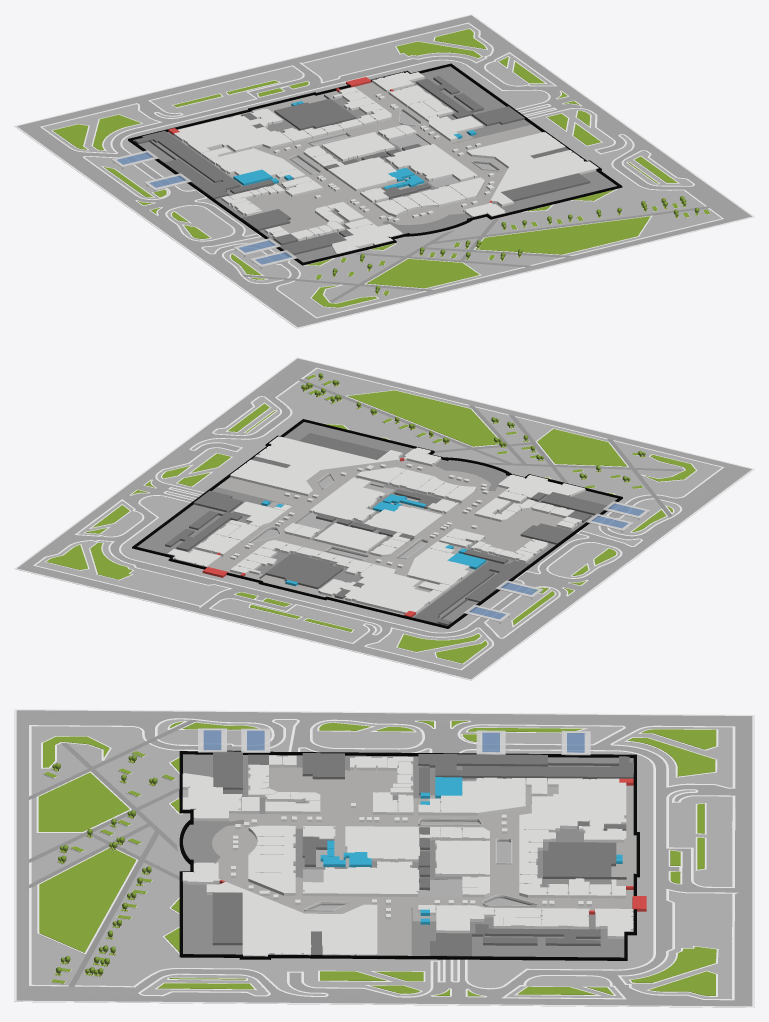
File: map_3.fbx
The picture shows the model from 3 angles, top to bottom: view 1: azimuth 30°, elevation 25°; view 2: azimuth 150°, elevation 25°; view 3: azimuth 270°, elevation 25°; orthographic projection. The views are drawn at different scales.
Parts seen in each view (by area): view 1: Curve.000_Curve.191, Curve.002_Curve.188, Curve.241_Curve.624, Curve.003_Curve.632, Curve.243_Curve.625, Curve.006_Curve.010, Curve.244_Curve.628, Curve.242_Curve.161, Curve.111_Curve.500, Curve.036_Curve.035, Curve.001_Curve.002, Curve.107_Curve.496 (+10 smaller); view 2: Curve.000_Curve.191, Curve.002_Curve.188, Curve.241_Curve.624, Curve.003_Curve.632, Curve.243_Curve.625, Curve.006_Curve.010, Curve.244_Curve.628, Curve.111_Curve.500, Curve.242_Curve.161, Curve.036_Curve.035, Curve.001_Curve.002, Curve.107_Curve.496 (+10 smaller); view 3: Curve.000_Curve.191, Curve.002_Curve.188, Curve.241_Curve.624, Curve.003_Curve.632, Curve.006_Curve.010, Curve.243_Curve.625, Curve.244_Curve.628, Curve.111_Curve.500, Curve.242_Curve.161, Curve.036_Curve.035, Curve.001_Curve.002, Curve.107_Curve.496 (+18 smaller).
Part boxes in pixels (x1=…): Curve.000_Curve.191: x1=43, y1=24, x2=720, y2=317; Curve.002_Curve.188: x1=17, y1=15, x2=751, y2=327; Curve.241_Curve.624: x1=53, y1=29, x2=677, y2=307; Curve.003_Curve.632: x1=168, y1=82, x2=541, y2=233; Curve.243_Curve.625: x1=14, y1=14, x2=754, y2=328; Curve.006_Curve.010: x1=134, y1=76, x2=590, y2=255; Curve.244_Curve.628: x1=133, y1=66, x2=616, y2=262; Curve.242_Curve.161: x1=51, y1=28, x2=679, y2=308; Curve.111_Curve.500: x1=466, y1=132, x2=598, y2=192; Curve.036_Curve.035: x1=174, y1=109, x2=292, y2=154; Curve.001_Curve.002: x1=128, y1=63, x2=622, y2=265; Curve.107_Curve.496: x1=385, y1=144, x2=477, y2=181; Curve.000_Curve.191: x1=36, y1=369, x2=720, y2=669; Curve.002_Curve.188: x1=17, y1=358, x2=751, y2=679; Curve.241_Curve.624: x1=46, y1=390, x2=695, y2=663; Curve.003_Curve.632: x1=209, y1=460, x2=564, y2=617; Curve.243_Curve.625: x1=14, y1=357, x2=754, y2=680; Curve.006_Curve.010: x1=165, y1=433, x2=607, y2=625; Curve.244_Curve.628: x1=137, y1=422, x2=617, y2=623; Curve.111_Curve.500: x1=230, y1=436, x2=378, y2=496; Curve.242_Curve.161: x1=44, y1=390, x2=697, y2=664; Curve.036_Curve.035: x1=318, y1=564, x2=442, y2=614; Curve.001_Curve.002: x1=132, y1=419, x2=622, y2=628; Curve.107_Curve.496: x1=309, y1=477, x2=385, y2=522; Curve.000_Curve.191: x1=31, y1=719, x2=732, y2=999; Curve.002_Curve.188: x1=16, y1=710, x2=752, y2=1006; Curve.241_Curve.624: x1=38, y1=721, x2=716, y2=996; Curve.003_Curve.632: x1=212, y1=767, x2=636, y2=959; Curve.006_Curve.010: x1=212, y1=751, x2=633, y2=956; Curve.243_Curve.625: x1=14, y1=709, x2=754, y2=1007; Curve.244_Curve.628: x1=183, y1=754, x2=633, y2=957; Curve.111_Curve.500: x1=242, y1=890, x2=377, y2=956; Curve.242_Curve.161: x1=36, y1=720, x2=718, y2=997; Curve.036_Curve.035: x1=519, y1=778, x2=626, y2=842; Curve.001_Curve.002: x1=179, y1=750, x2=639, y2=960; Curve.107_Curve.496: x1=303, y1=861, x2=419, y2=896.
Bounding box in the file's own units: 312 × 8.77 × 334.
